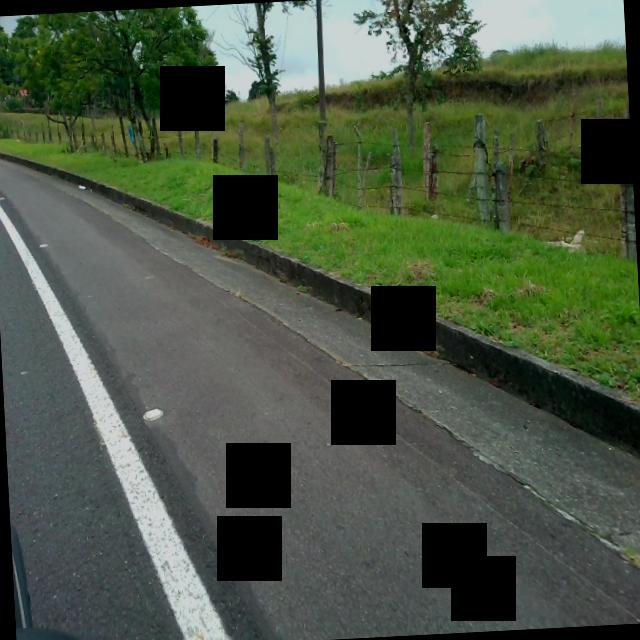DITCH: (0, 116, 640, 640), (0, 162, 640, 640)
